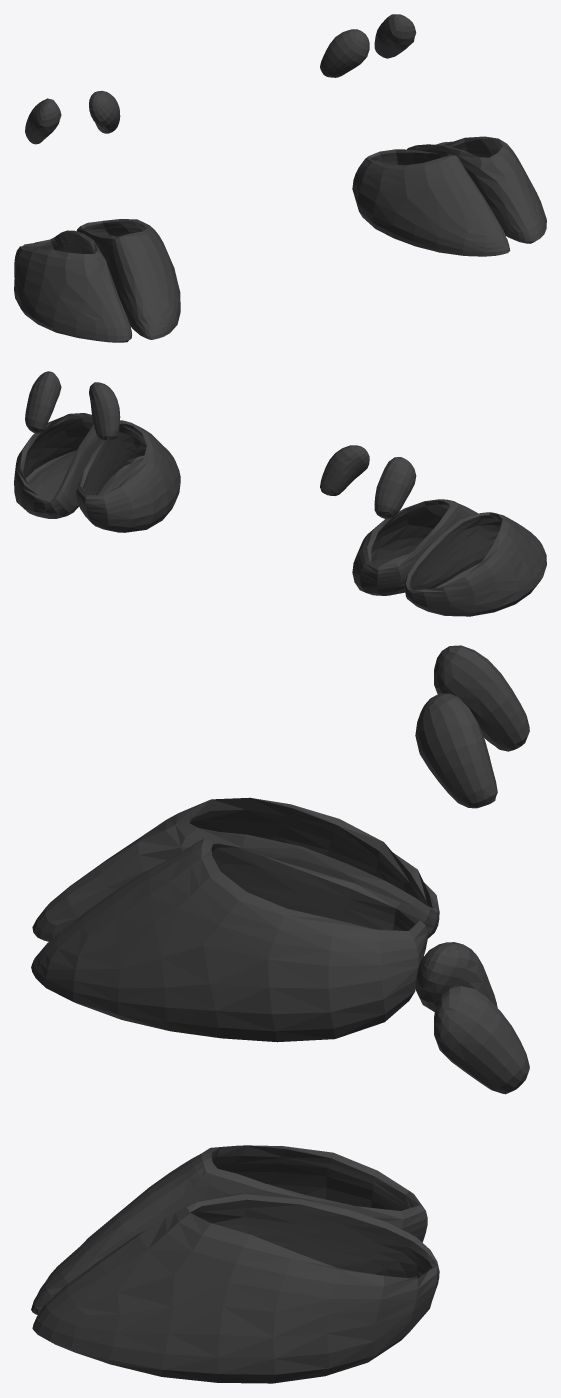
The model's file is hooves_FL_LO.glb.
The picture shows the model from 3 angles, top to bottom: view 1: azimuth 30°, elevation 25°; view 2: azimuth 150°, elevation 25°; view 3: azimuth 270°, elevation 25°; orthographic projection. The views are drawn at different scales.
Parts seen in each view (by area): view 1: hooves_FL_LO; view 2: hooves_FL_LO; view 3: hooves_FL_LO.
Part boxes in pixels (x1,y1,x2,y2): hooves_FL_LO: (14, 14, 546, 342); hooves_FL_LO: (14, 371, 546, 616); hooves_FL_LO: (31, 645, 529, 1383).
Size of the model in its own units: 0.00396 by 0.00127 by 0.00171.
1 material, 1 textured.
